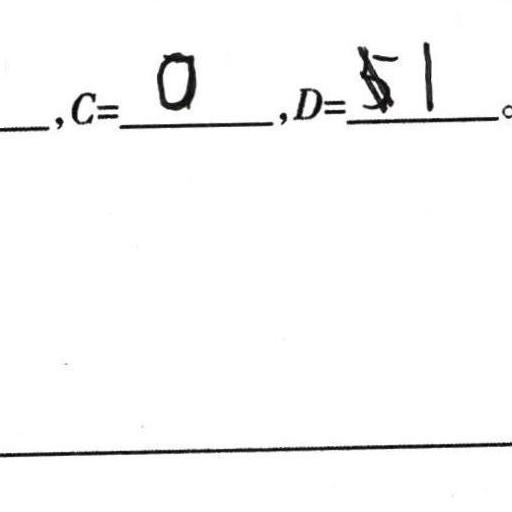ans: (154, 50, 199, 115), (418, 39, 440, 114)
